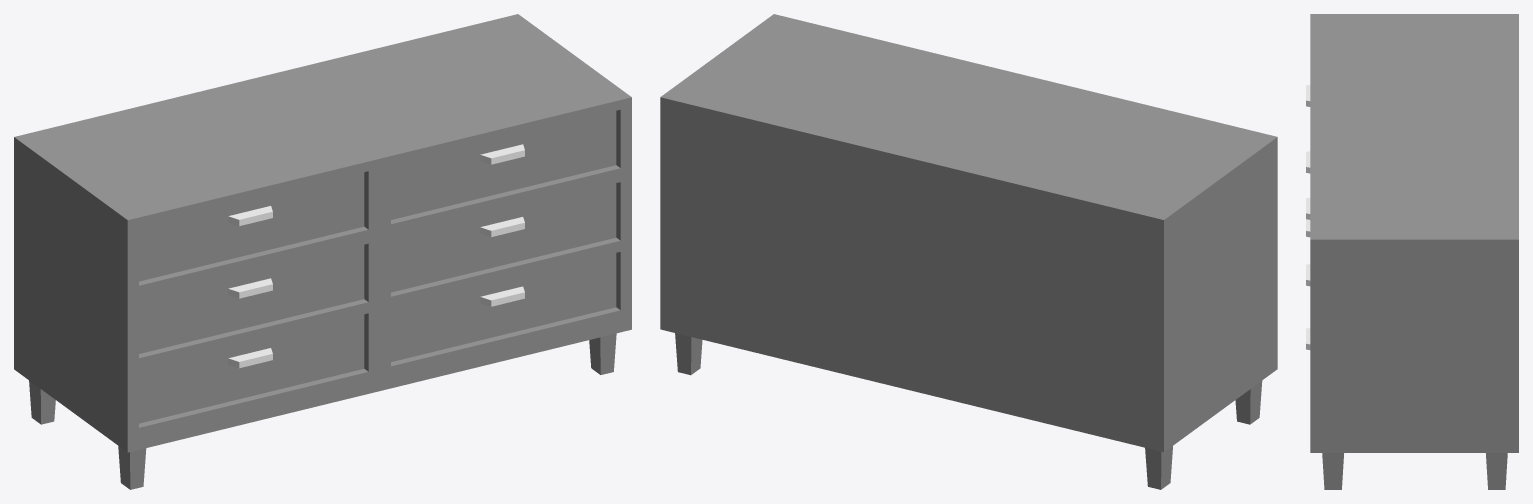
Rendered from SM_Prop_Dresser_04.obj.
3 renders of one model, left to right at view 1: azimuth 30°, elevation 25°; view 2: azimuth 150°, elevation 25°; view 3: azimuth 270°, elevation 25°, orthographic. The views are drawn at different scales.
Parts seen in each view (by area): view 1: SM_Prop_Dresser_04_Mat_SwatchOverlay_PolygonTown_01_Wood_Inst; view 2: SM_Prop_Dresser_04_Mat_SwatchOverlay_PolygonTown_01_Wood_Inst; view 3: SM_Prop_Dresser_04_Mat_SwatchOverlay_PolygonTown_01_Wood_Inst.
Part boxes in pixels (left/top/right/bottom): SM_Prop_Dresser_04_Mat_SwatchOverlay_PolygonTown_01_Wood_Inst: left=14, top=14, right=631, bottom=489; SM_Prop_Dresser_04_Mat_SwatchOverlay_PolygonTown_01_Wood_Inst: left=660, top=14, right=1277, bottom=489; SM_Prop_Dresser_04_Mat_SwatchOverlay_PolygonTown_01_Wood_Inst: left=1306, top=14, right=1518, bottom=489.
Size of the model in its own units: 1.87 by 0.9872 by 0.7471.
1 material, 1 textured.
